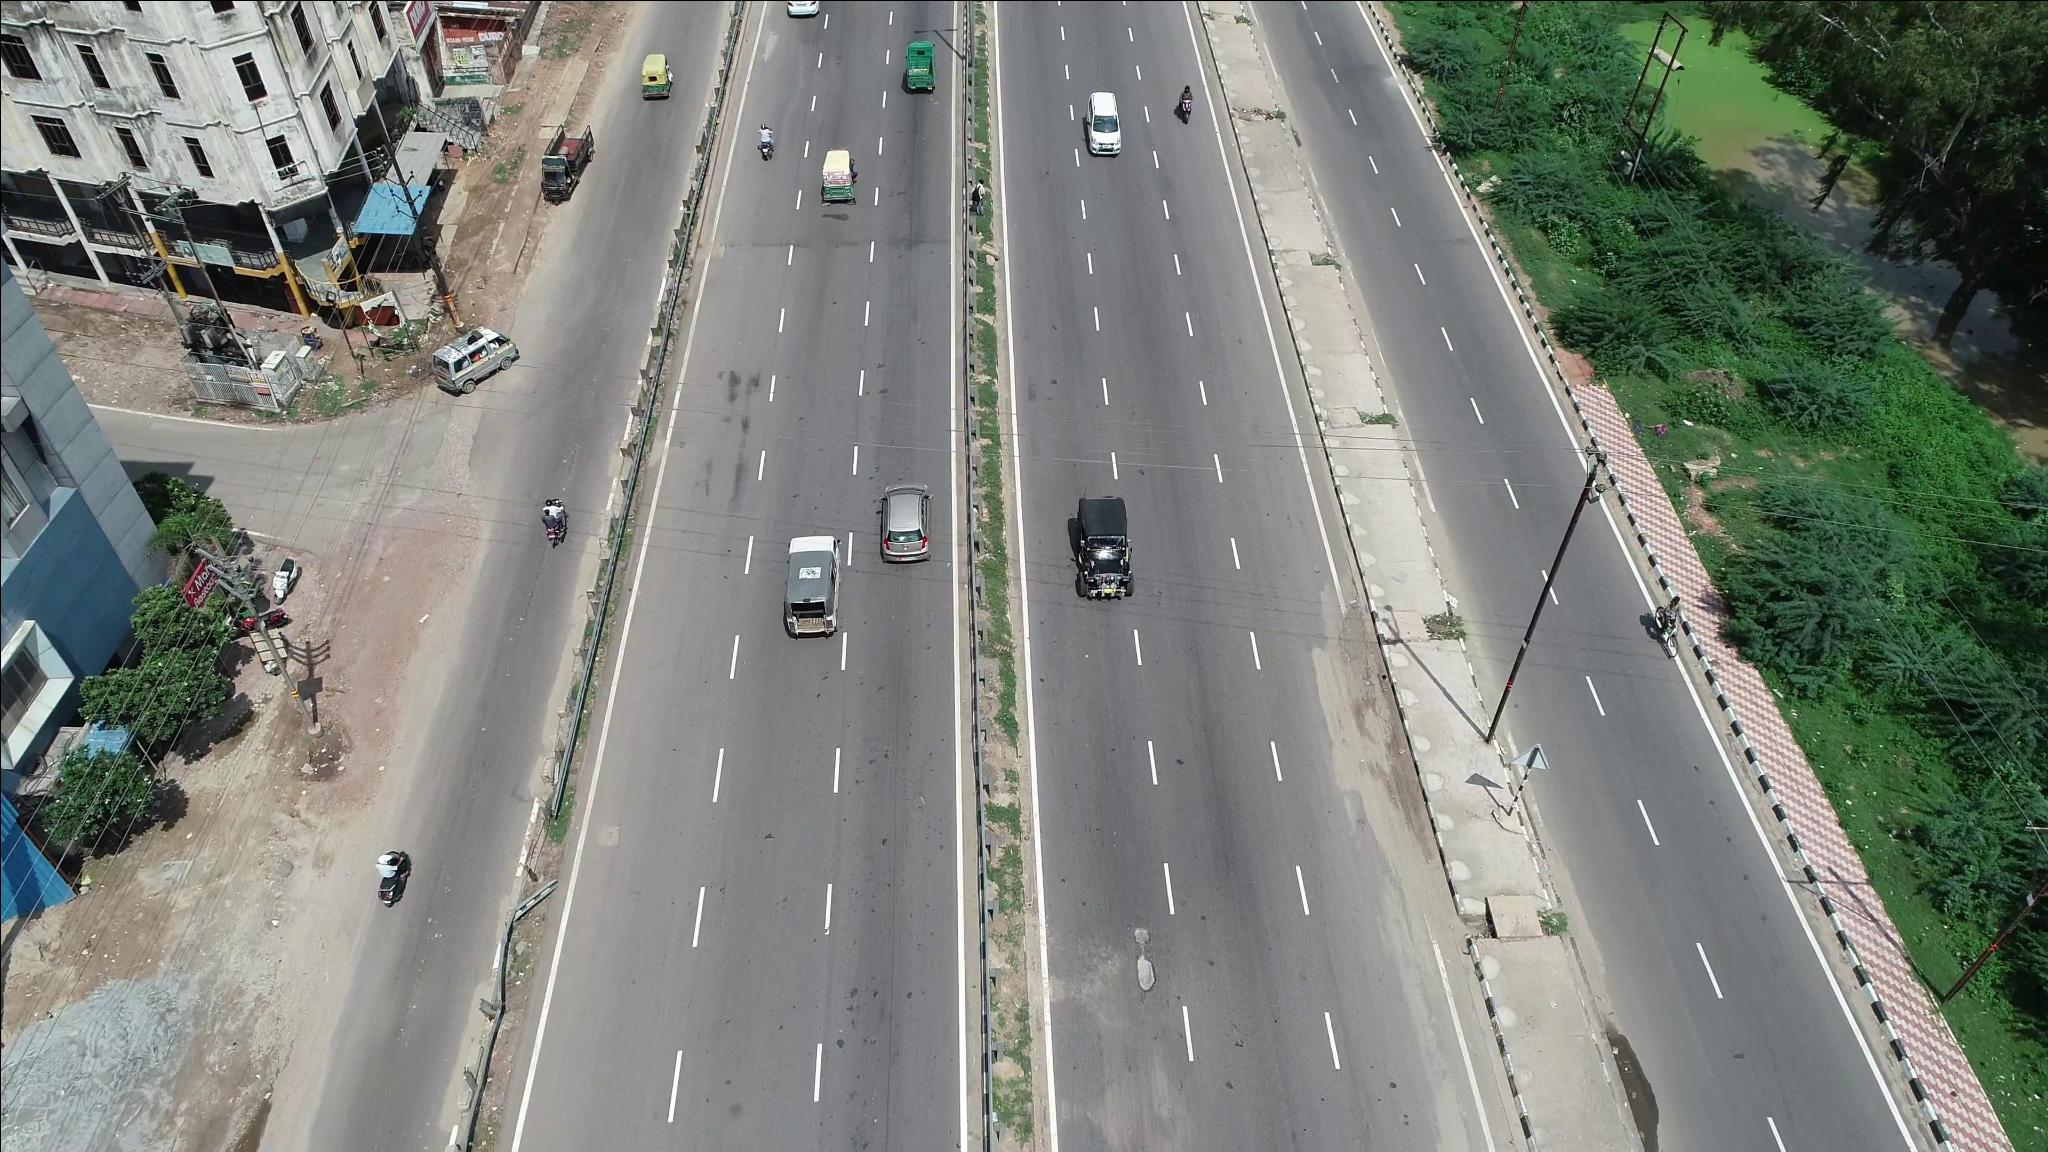Muddy_road: (1314, 625, 1395, 798)
Potholes: (1106, 919, 1165, 1013)
